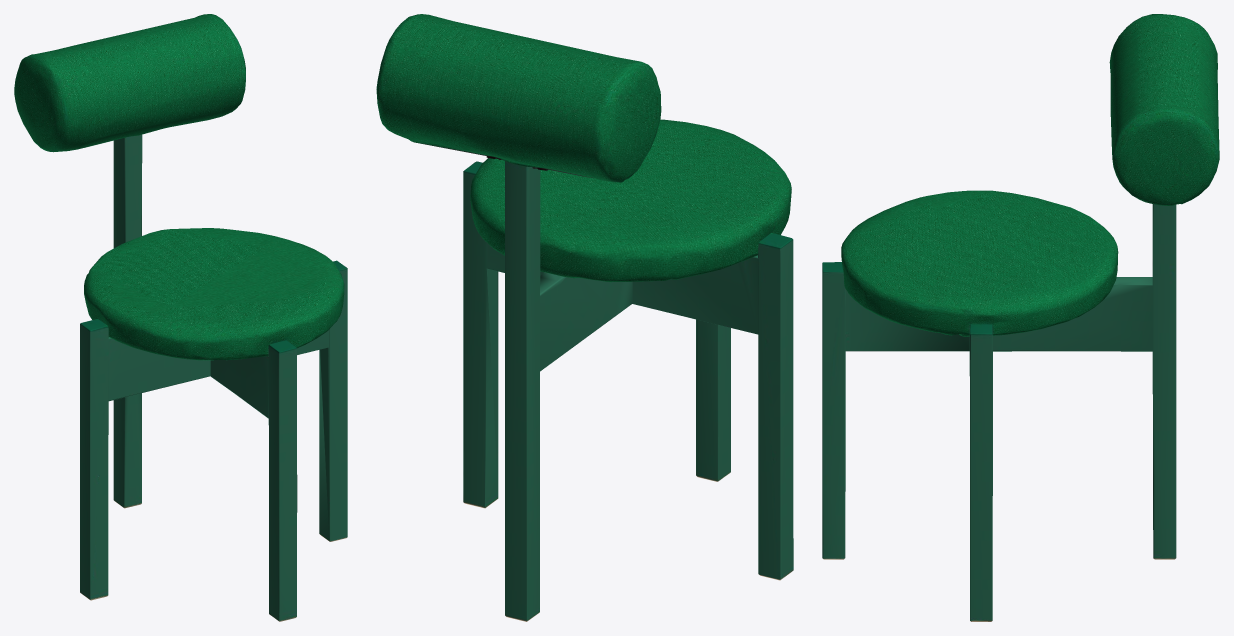
Rendered from ikea_ps_2026_krzeso_50617967.glb.
3 views of the same model, side by side, from view 1: azimuth 30°, elevation 25°; view 2: azimuth 150°, elevation 25°; view 3: azimuth 270°, elevation 25° (orthographic). The views are drawn at different scales.
Parts seen in each view (by area): view 1: ikea_ps_2026_krzeso_50617967; view 2: ikea_ps_2026_krzeso_50617967; view 3: ikea_ps_2026_krzeso_50617967.
Boxes of the visible parts, x1=… form: ikea_ps_2026_krzeso_50617967: x1=14, y1=14, x2=347, y2=621; ikea_ps_2026_krzeso_50617967: x1=376, y1=14, x2=793, y2=621; ikea_ps_2026_krzeso_50617967: x1=822, y1=14, x2=1219, y2=621.
Bounding box in the file's own units: 0.4441 × 0.7655 × 0.5548.
1 material, 1 textured.
